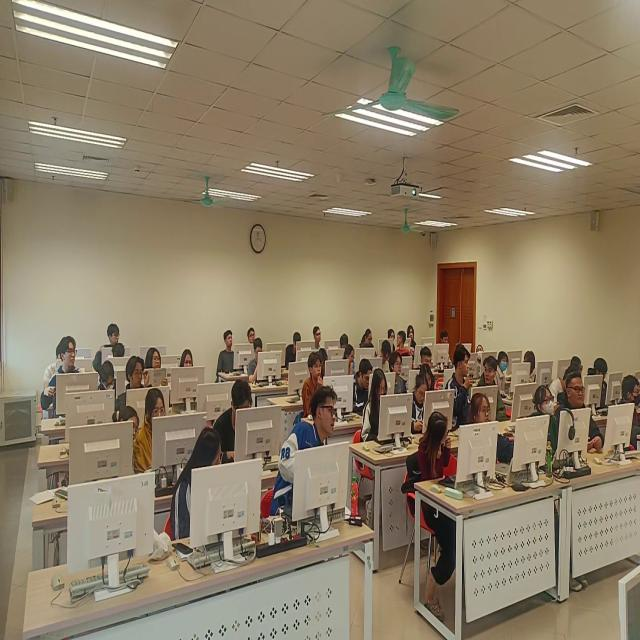raise_head: (272, 380, 340, 521), (560, 371, 606, 455), (466, 390, 515, 467), (48, 333, 86, 418), (529, 384, 561, 461), (118, 355, 153, 412), (616, 372, 640, 452), (388, 352, 410, 395), (218, 330, 236, 382), (498, 347, 512, 394), (144, 345, 163, 367), (179, 346, 197, 367), (312, 324, 323, 349), (407, 324, 418, 345), (248, 325, 257, 344), (388, 328, 395, 341)
using_computer: (215, 375, 256, 462), (360, 367, 389, 450), (303, 351, 326, 412), (352, 357, 375, 411), (413, 373, 431, 430), (589, 356, 610, 402), (247, 337, 266, 381), (96, 357, 118, 391), (287, 329, 304, 365), (341, 343, 357, 374), (440, 329, 453, 367), (359, 329, 379, 352), (568, 352, 585, 377), (318, 345, 331, 376), (378, 337, 391, 366), (418, 344, 435, 365), (112, 343, 127, 359), (341, 331, 352, 349), (474, 340, 486, 356)
